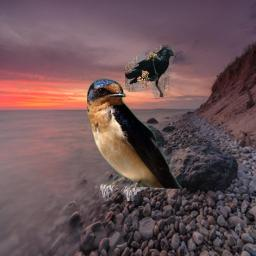Crow: (125, 45, 176, 97)
Swallow: (87, 78, 182, 201)
